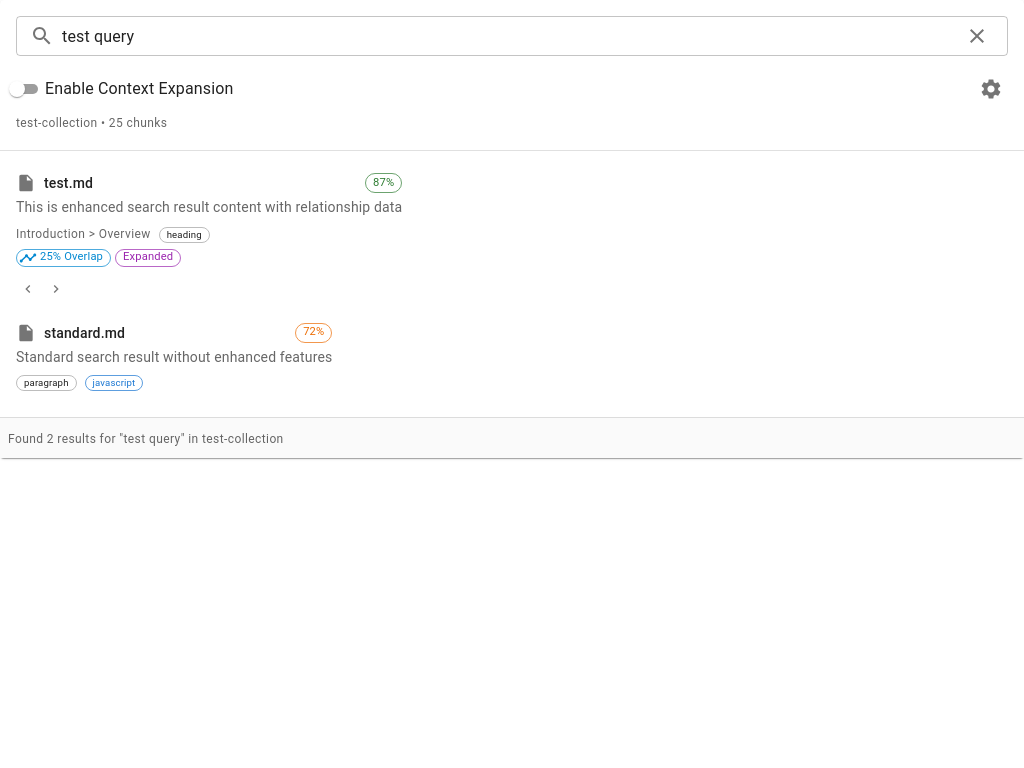
Test: EnhancedVectorSearchPanel › Enhanced Search Controls › shows similarity threshold control when settings panel is expanded
Step 1. Click the button named "Enhanced Search Settings" → (991, 89), box [974,72,1008,106]
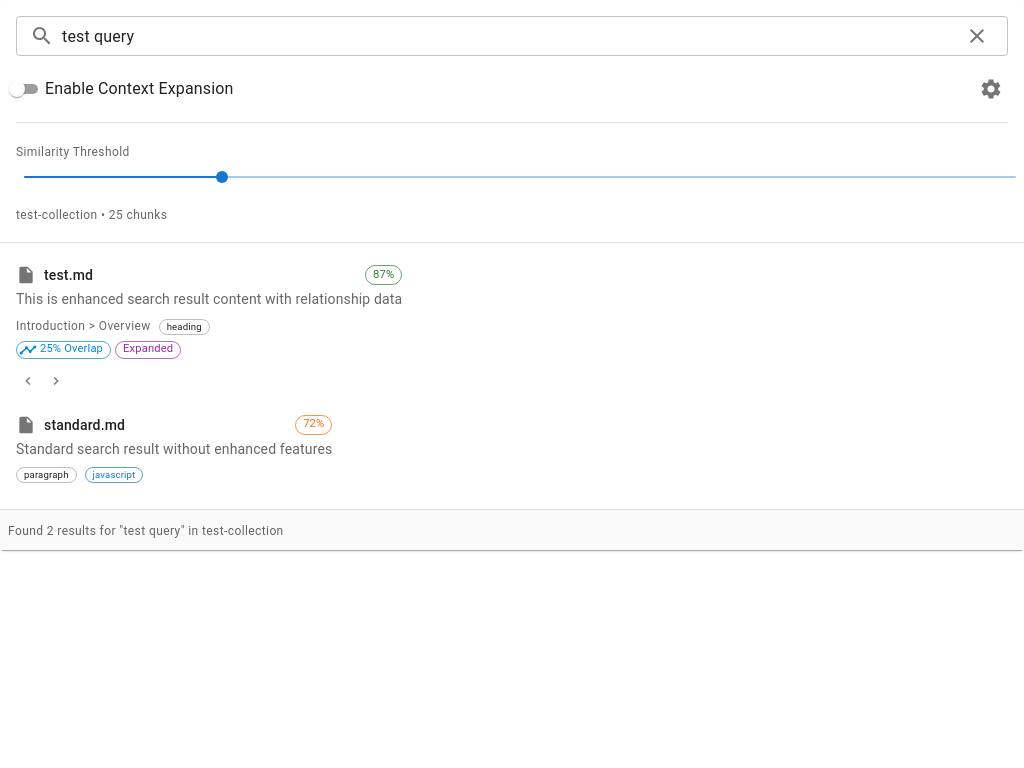
expect the text "Similarity Threshold" is shown: met, box [16,145,130,159]
expect the slider is shown: met, box [216,171,228,183]
